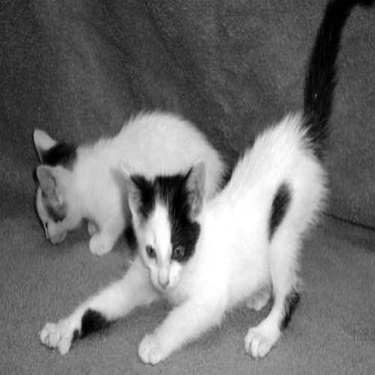cat: (39, 8, 359, 365), (31, 113, 229, 258)
